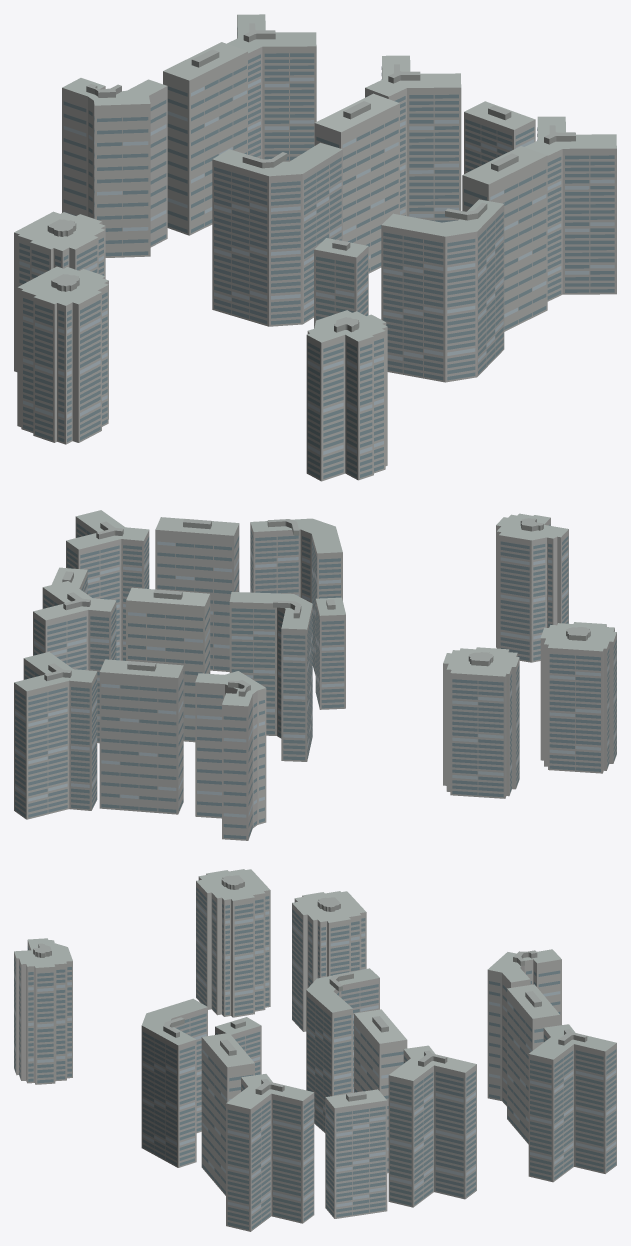
Rendered from apt-a13528102.glb.
3 renders of one model, top to bottom at view 1: azimuth 30°, elevation 25°; view 2: azimuth 150°, elevation 25°; view 3: azimuth 270°, elevation 25°, orthographic. The views are drawn at different scales.
Visible parts, largest first — view 1: apt-a13528102; view 2: apt-a13528102; view 3: apt-a13528102.
Part boxes in pixels (x1,y1,x2,y2): apt-a13528102: (14, 14, 616, 481); apt-a13528102: (14, 510, 616, 840); apt-a13528102: (14, 869, 616, 1231).
Size of the model in its own units: 269 by 69 by 279.
